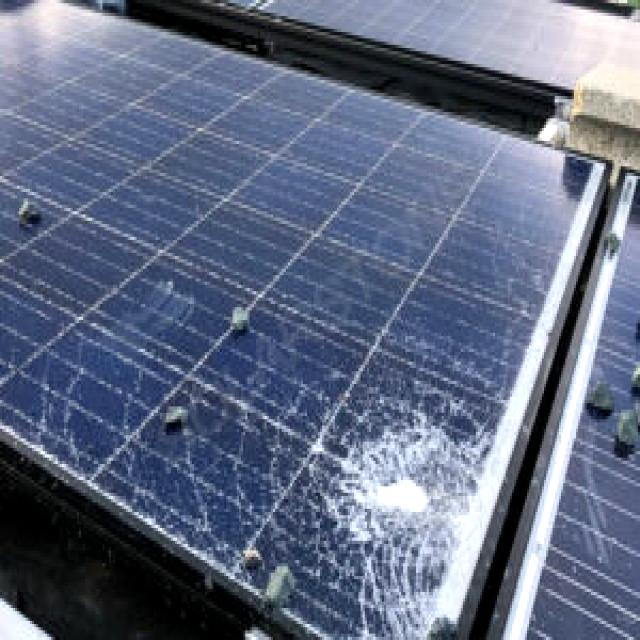hotspot: (317, 369, 497, 622)
